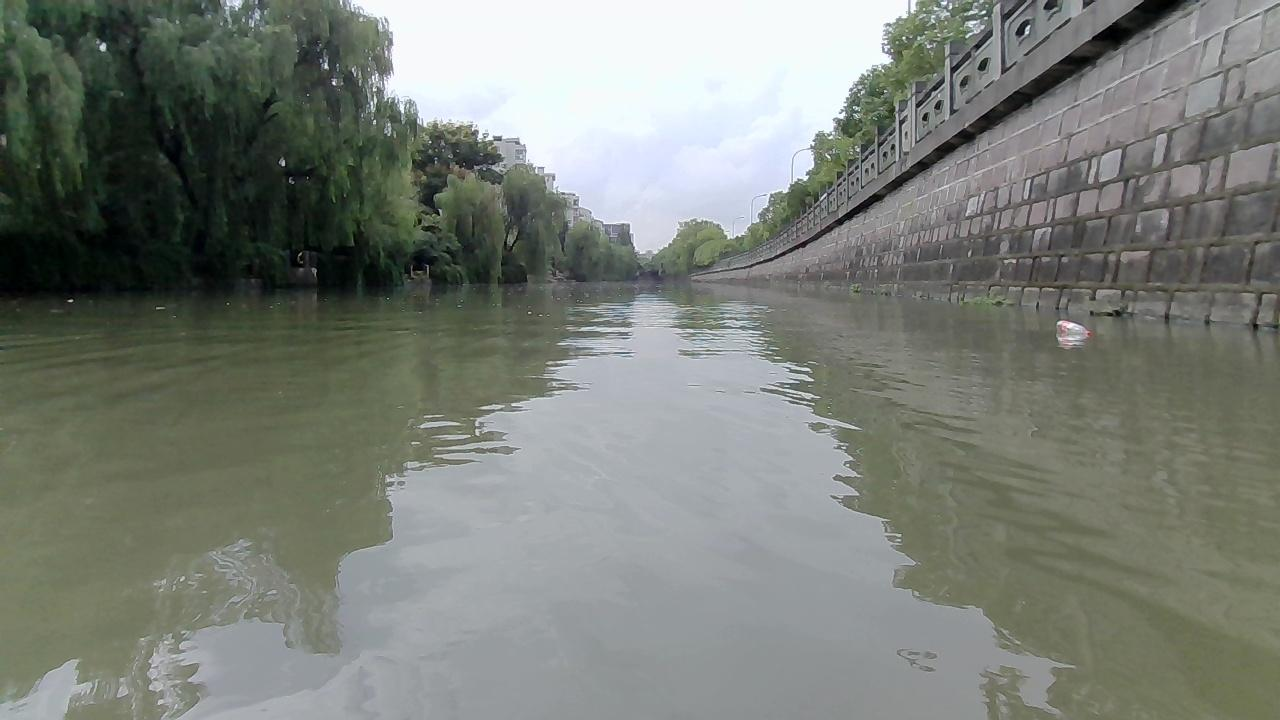bottle: (1055, 318, 1090, 334)
